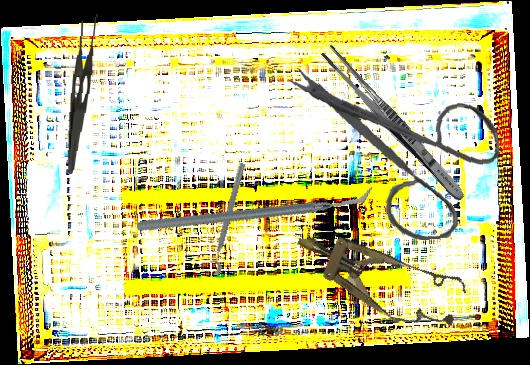Chopper: (134, 124, 377, 294)
Dressing Forceps: (317, 43, 471, 205), (66, 11, 100, 176)
Fixation Ring: (199, 159, 250, 277)
Iris Scissors: (285, 51, 507, 251)
Speculum: (284, 208, 472, 344)
